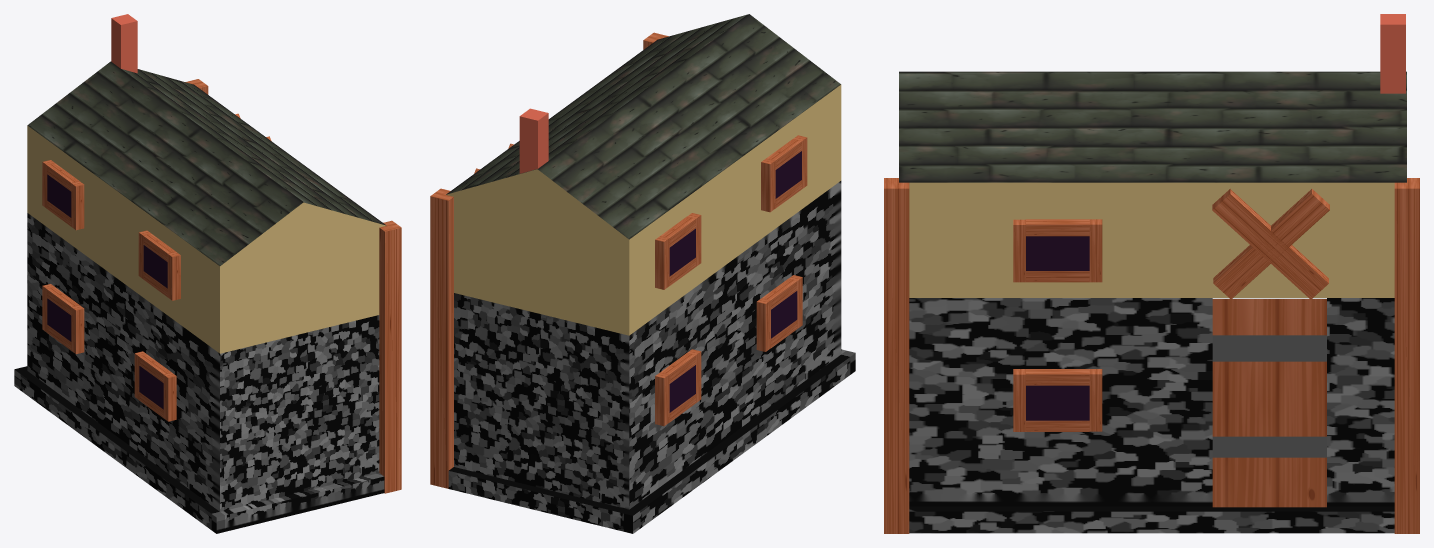
The model's file is inn5.glb.
3 renders of one model, left to right at view 1: azimuth 30°, elevation 25°; view 2: azimuth 150°, elevation 25°; view 3: azimuth 270°, elevation 25°, orthographic. The views are drawn at different scales.
Visible parts, largest first — view 1: upper, lowerfloor, beam, window.005, window, window.002, window.004, chimney; view 2: upper, lowerfloor, beam.001, window, window.005, window.002, window.004, chimney; view 3: upper, lowerfloor, door, beam, beam.001, window.003, window.001, chimney.001, chimney.002, chimney.
Boxes of the visible parts, x1=… form: upper: x1=27, y1=61, x2=386, y2=353; lowerfloor: x1=14, y1=213, x2=384, y2=533; beam: x1=379, y1=220, x2=401, y2=493; window.005: x1=138, y1=230, x2=180, y2=300; window: x1=42, y1=284, x2=84, y2=354; window.002: x1=42, y1=160, x2=84, y2=230; window.004: x1=134, y1=351, x2=176, y2=421; chimney: x1=111, y1=14, x2=137, y2=73; upper: x1=446, y1=14, x2=841, y2=335; lowerfloor: x1=448, y1=181, x2=855, y2=533; beam.001: x1=430, y1=188, x2=453, y2=488; window: x1=655, y1=349, x2=701, y2=426; window.005: x1=761, y1=135, x2=807, y2=212; window.002: x1=655, y1=213, x2=701, y2=289; window.004: x1=756, y1=275, x2=802, y2=351; chimney: x1=519, y1=108, x2=548, y2=173; upper: x1=899, y1=71, x2=1406, y2=297; lowerfloor: x1=909, y1=298, x2=1394, y2=533; door: x1=1212, y1=298, x2=1326, y2=507; beam: x1=884, y1=178, x2=909, y2=533; beam.001: x1=1394, y1=178, x2=1419, y2=533; window.003: x1=1013, y1=219, x2=1102, y2=282; window.001: x1=1013, y1=369, x2=1102, y2=431; chimney.001: x1=1212, y1=189, x2=1328, y2=299; chimney.002: x1=1213, y1=189, x2=1329, y2=299; chimney: x1=1380, y1=14, x2=1405, y2=93.
Bounding box in the file's own units: 2.21 × 4 × 4.22.
Materials: 7 (3 with a texture image).
